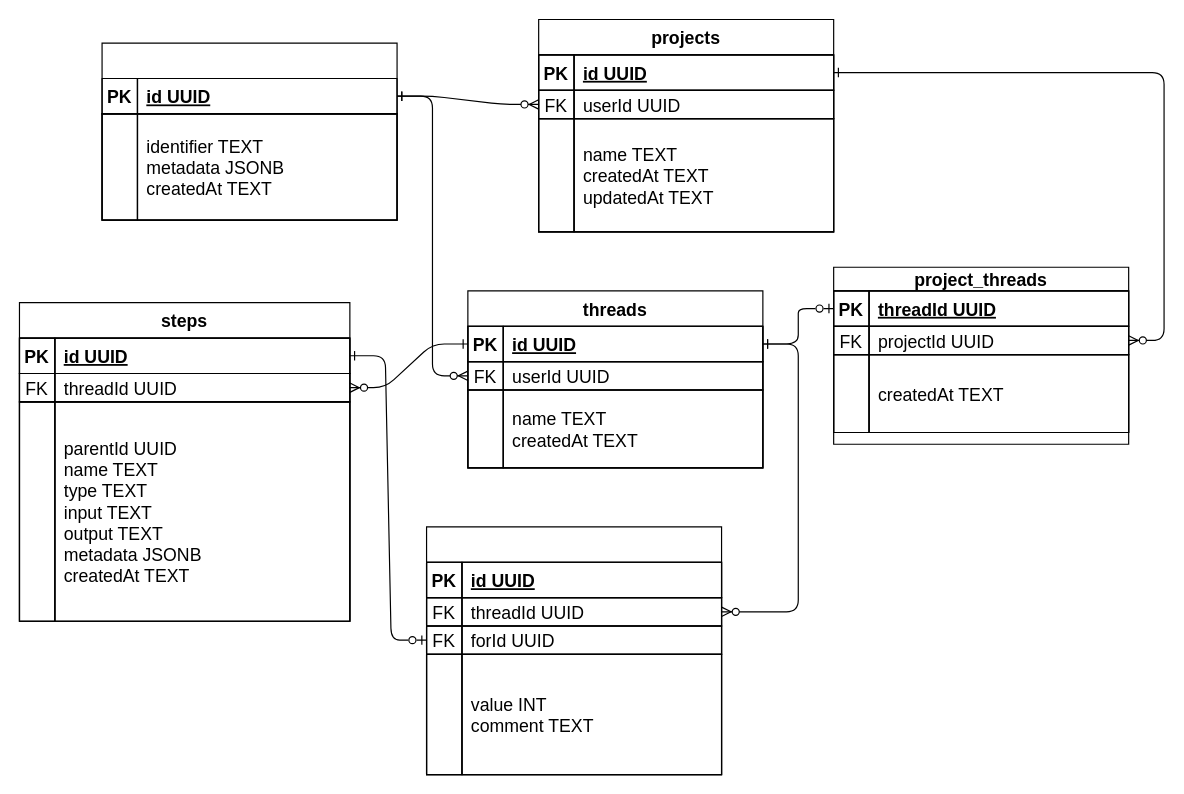
Some shapes in this 1184 by 794 pixel diagram are drawn without their labels. Here are the shapes that lost their labels. From the top down, the box of each, then its label:
(101, 42, 397, 220): users
(425, 526, 722, 775): feedbacks
